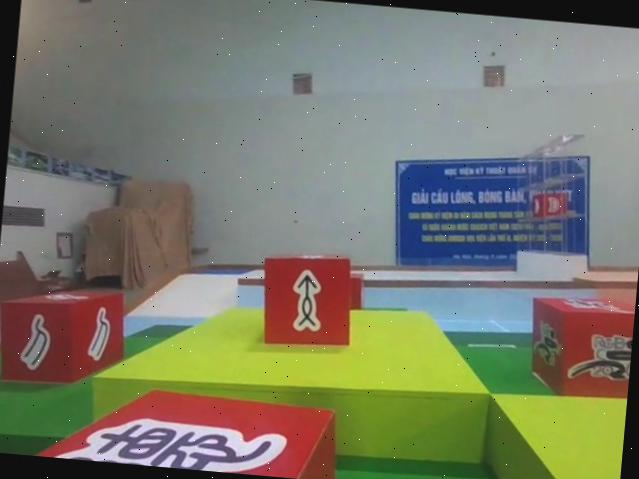R1: (519, 290, 635, 403)
R2 Fake: (13, 373, 344, 479)
R2 Real: (0, 283, 129, 390), (256, 250, 358, 355)
